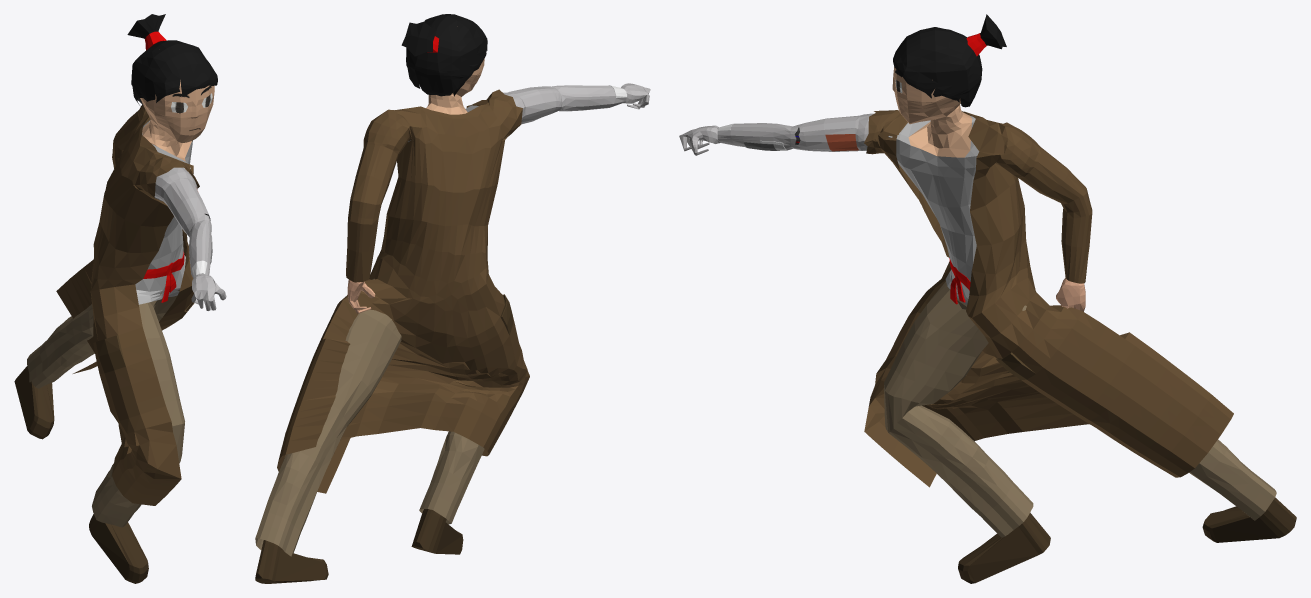
The model's file is OneAnimationTest_000010.obj.
The picture shows the model from 3 angles, left to right: view 1: azimuth 30°, elevation 25°; view 2: azimuth 150°, elevation 25°; view 3: azimuth 270°, elevation 25°; orthographic projection. The views are drawn at different scales.
Visible parts, largest first — view 1: Jacket_Cube, Body_Cube.003, Hair_Cube.004; view 2: Jacket_Cube, Body_Cube.003, Hair_Cube.004; view 3: Jacket_Cube, Body_Cube.003, Hair_Cube.004.
Boxes of the visible parts, <box> form: Jacket_Cube: <box>56,105,199,505</box>; Body_Cube.003: <box>14,80,226,583</box>; Hair_Cube.004: <box>127,14,217,105</box>; Jacket_Cube: <box>277,89,529,493</box>; Body_Cube.003: <box>255,58,650,583</box>; Hair_Cube.004: <box>401,14,487,96</box>; Jacket_Cube: <box>864,110,1233,487</box>; Body_Cube.003: <box>679,67,1296,583</box>; Hair_Cube.004: <box>893,14,1006,107</box>.
Bounding box in the file's own units: 1.09 × 3.64 × 3.54.
